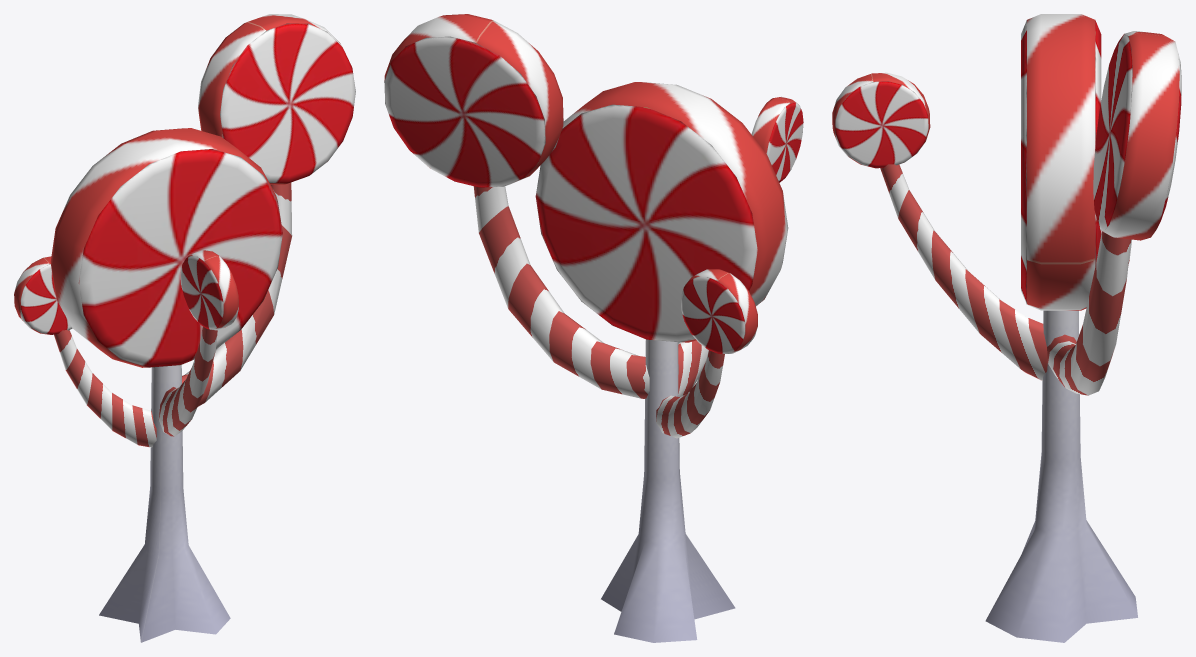
File: SM_CANE_TREE_02.fbx
3 views of the same model, side by side, from view 1: azimuth 30°, elevation 25°; view 2: azimuth 150°, elevation 25°; view 3: azimuth 270°, elevation 25° (orthographic). The views are drawn at different scales.
Visible parts, largest first — view 1: CANE_TREE_02; view 2: CANE_TREE_02; view 3: CANE_TREE_02.
Part boxes in pixels (<box>): CANE_TREE_02: <box>14,14,355,642</box>; CANE_TREE_02: <box>384,14,803,642</box>; CANE_TREE_02: <box>832,14,1181,642</box>.
Size of the model in its own units: 246 by 378 by 183.
1 material, 1 textured.
